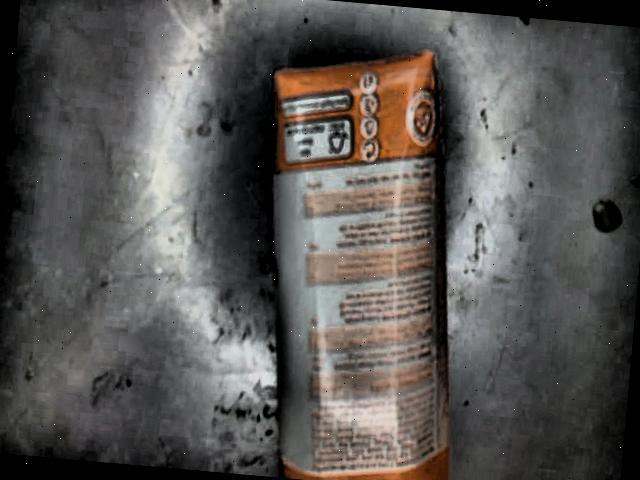Paper: (273, 50, 452, 480)
